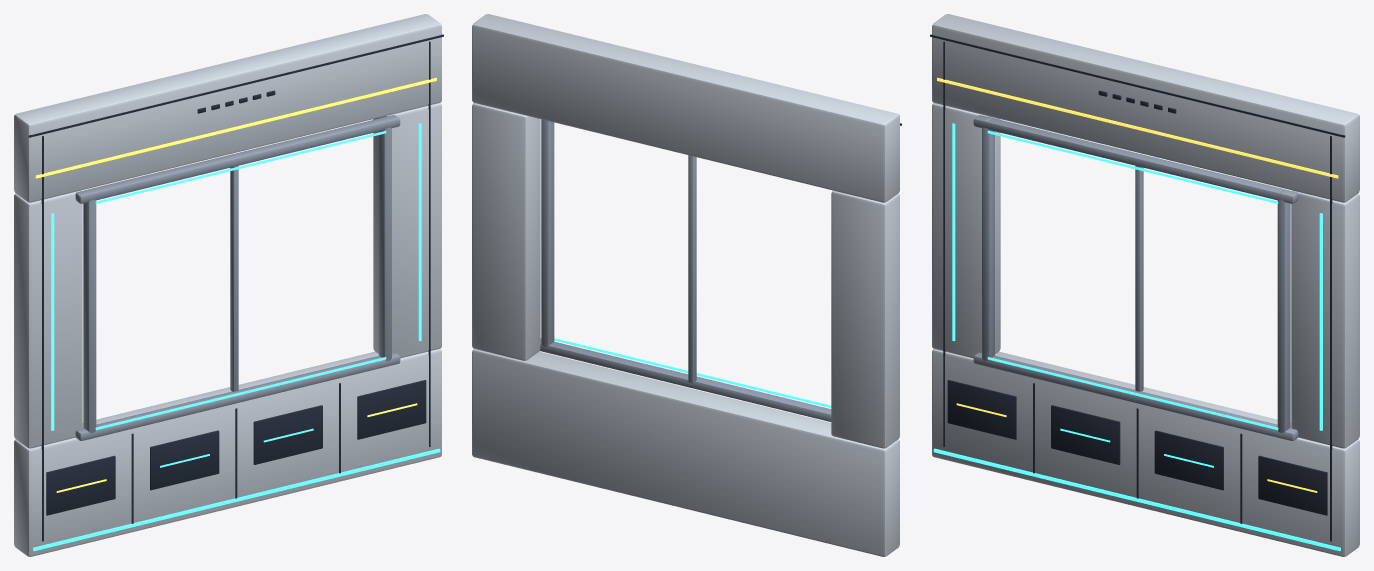
File: wall_panel.glb
3 views of the same model, side by side, from view 1: azimuth 30°, elevation 25°; view 2: azimuth 150°, elevation 25°; view 3: azimuth 330°, elevation 25° (orthographic).
Parts seen in each view (by area): view 1: wall_panel; view 2: wall_panel; view 3: wall_panel.
Boxes of the visible parts, x1,y1,x2,y2 form: wall_panel: (14,14,443,556); wall_panel: (472,14,901,556); wall_panel: (930,14,1359,556).
Bounding box in the file's own units: 3 × 3 × 0.266.
